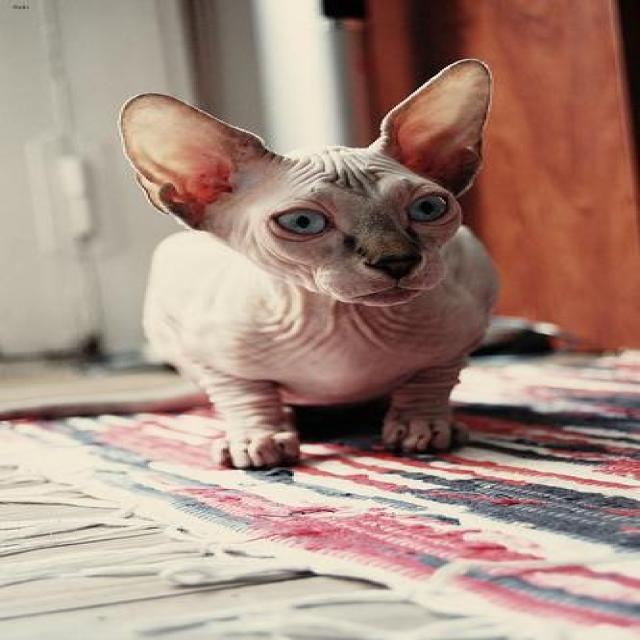cat: (117, 58, 498, 470)
